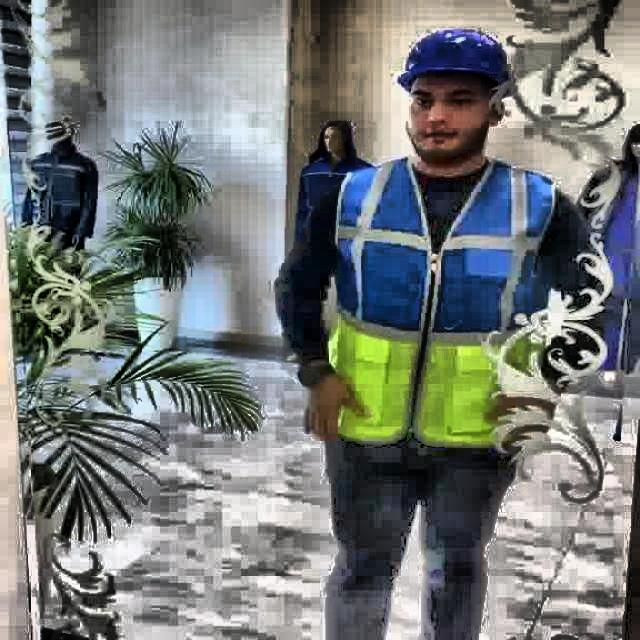safety_jacket: (328, 154, 563, 454)
